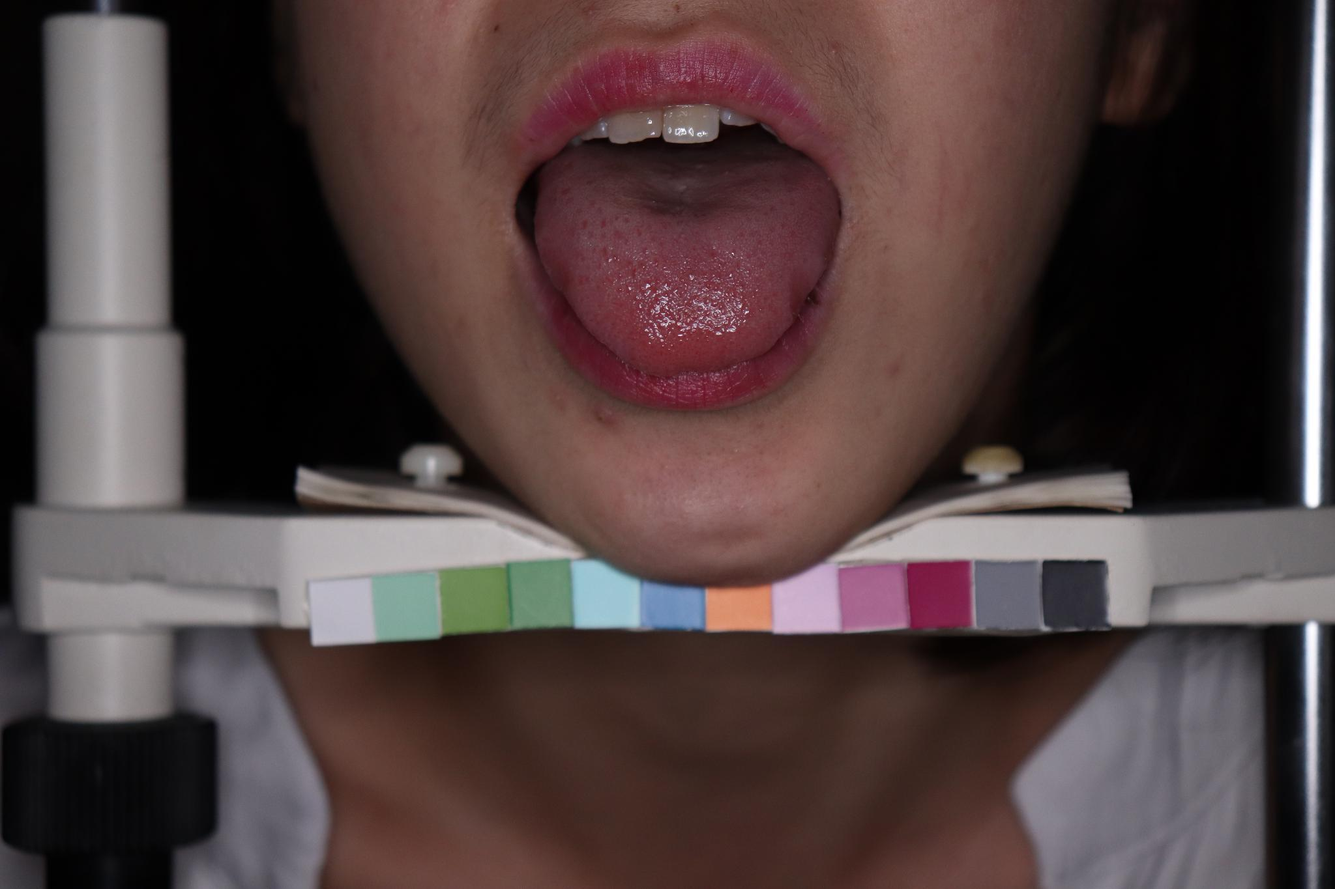baitaishe: (531, 124, 840, 376)
hongdianshe: (575, 217, 589, 231), (596, 216, 609, 231), (598, 244, 610, 255), (707, 249, 718, 260)
piweiao: (612, 158, 763, 231)
